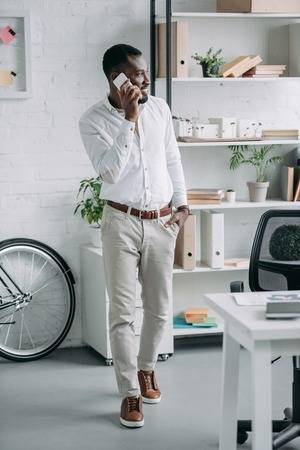F_shirt: (77, 94, 188, 208)
